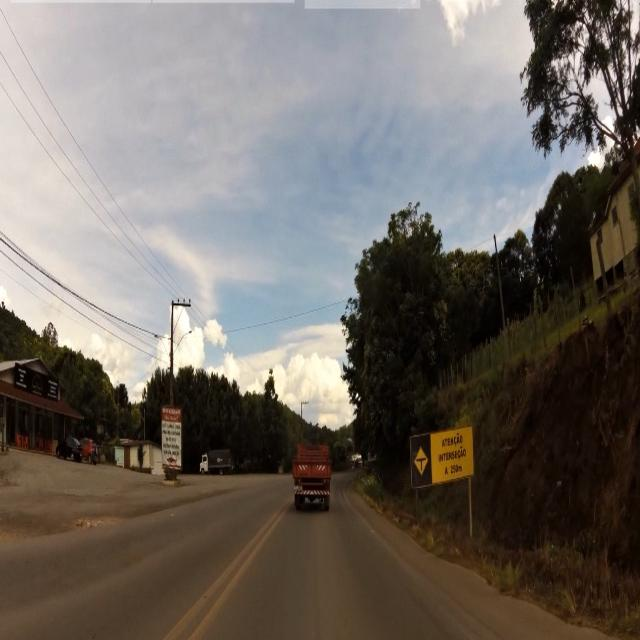A-8: (411, 443, 431, 478)
